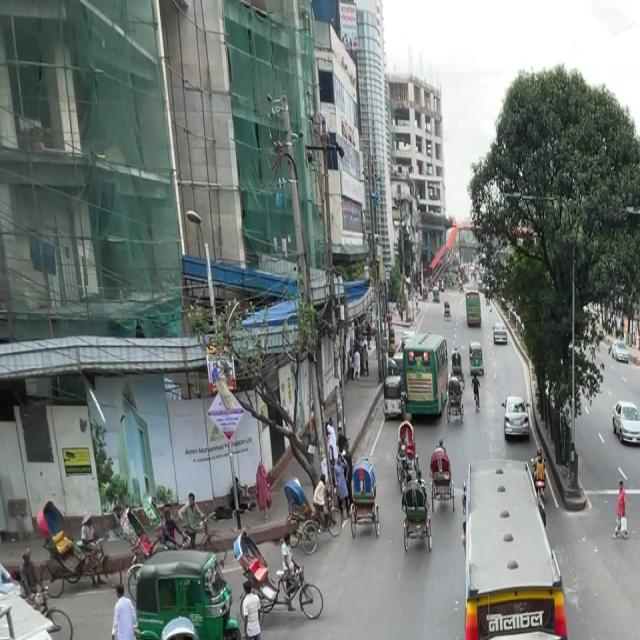bus: (460, 284, 485, 332)
car: (499, 390, 536, 450), (610, 396, 640, 449), (379, 379, 406, 426)
motorbike: (527, 447, 553, 518)
rickshaw: (128, 543, 240, 640)
